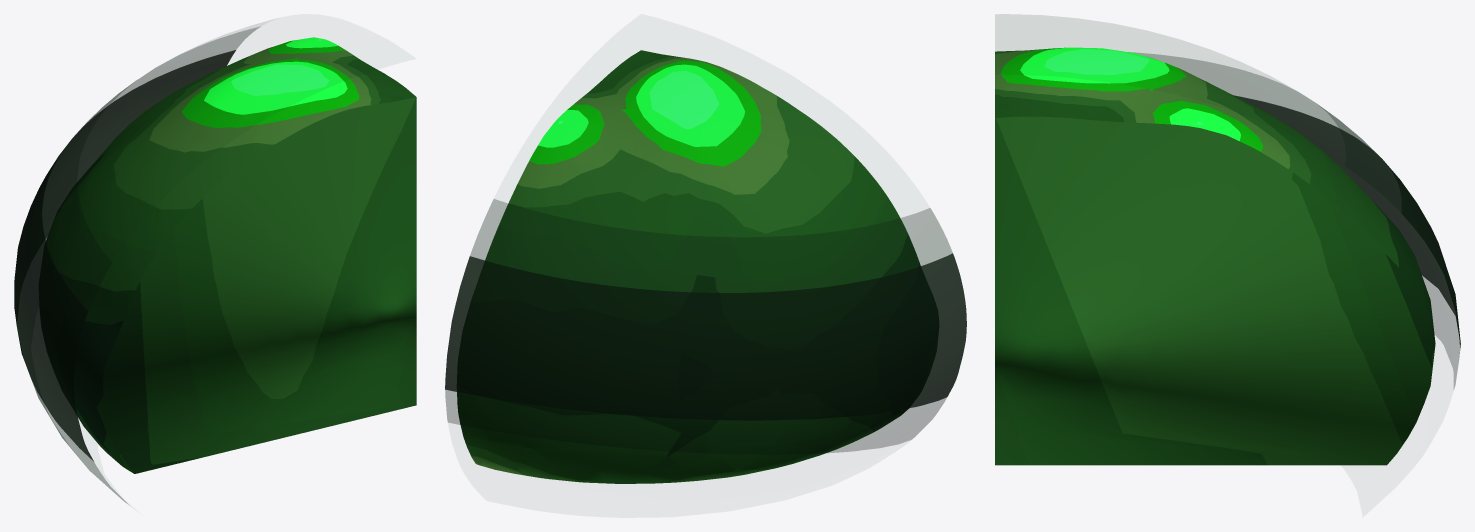
The model's file is glass_globe_tl_161.glb.
3 renders of one model, left to right at view 1: azimuth 30°, elevation 25°; view 2: azimuth 150°, elevation 25°; view 3: azimuth 270°, elevation 25°, orthographic. The views are drawn at different scales.
Parts seen in each view (by area): view 1: glass_globe_tl; view 2: glass_globe_tl; view 3: glass_globe_tl.
Boxes of the visible parts, x1=… form: glass_globe_tl: x1=14, y1=20, x2=416, y2=504; glass_globe_tl: x1=445, y1=50, x2=966, y2=483; glass_globe_tl: x1=995, y1=14, x2=1460, y2=465.
Size of the model in its own units: 22.9 by 25.11 by 23.9.
